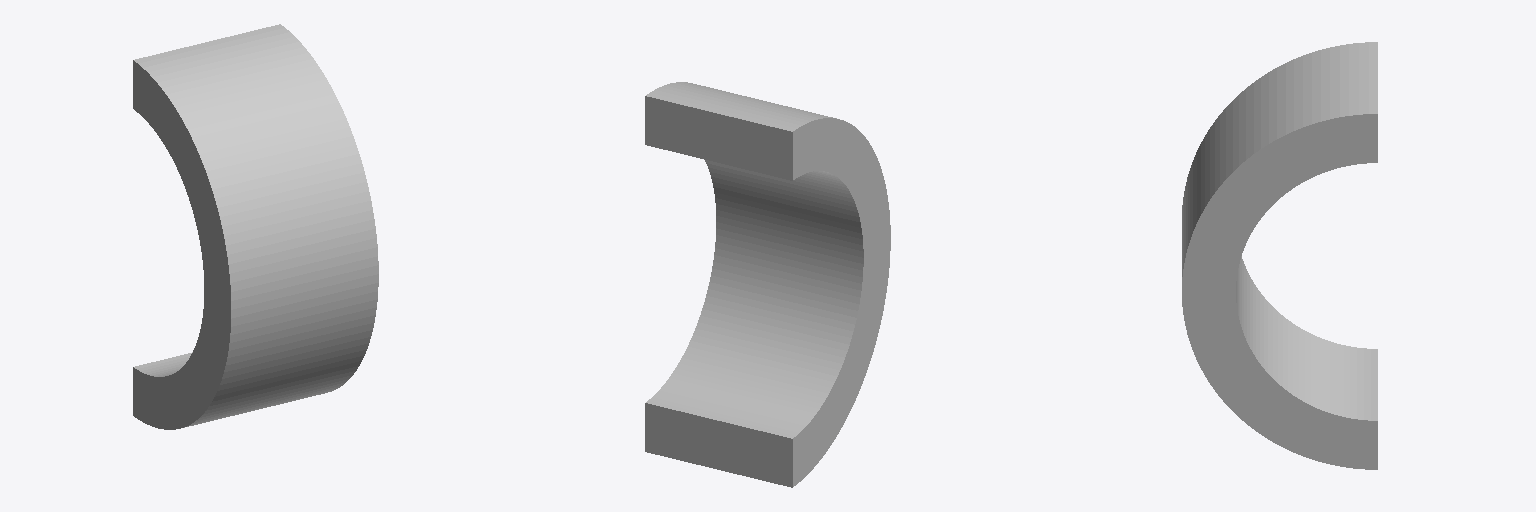
File: schlepp1_2_26__3_1.obj
The picture shows the model from 3 angles: view 1: azimuth 30°, elevation 25°; view 2: azimuth 150°, elevation 25°; view 3: azimuth 270°, elevation 25°; orthographic projection.
Visible parts, largest first — view 1: 0; view 2: 0; view 3: 0.
Boxes of the visible parts, <box> form: 0: <box>133,24,378,429</box>; 0: <box>645,82,890,487</box>; 0: <box>1182,42,1377,469</box>.
Bounding box in the file's own units: 201 × 464 × 232.